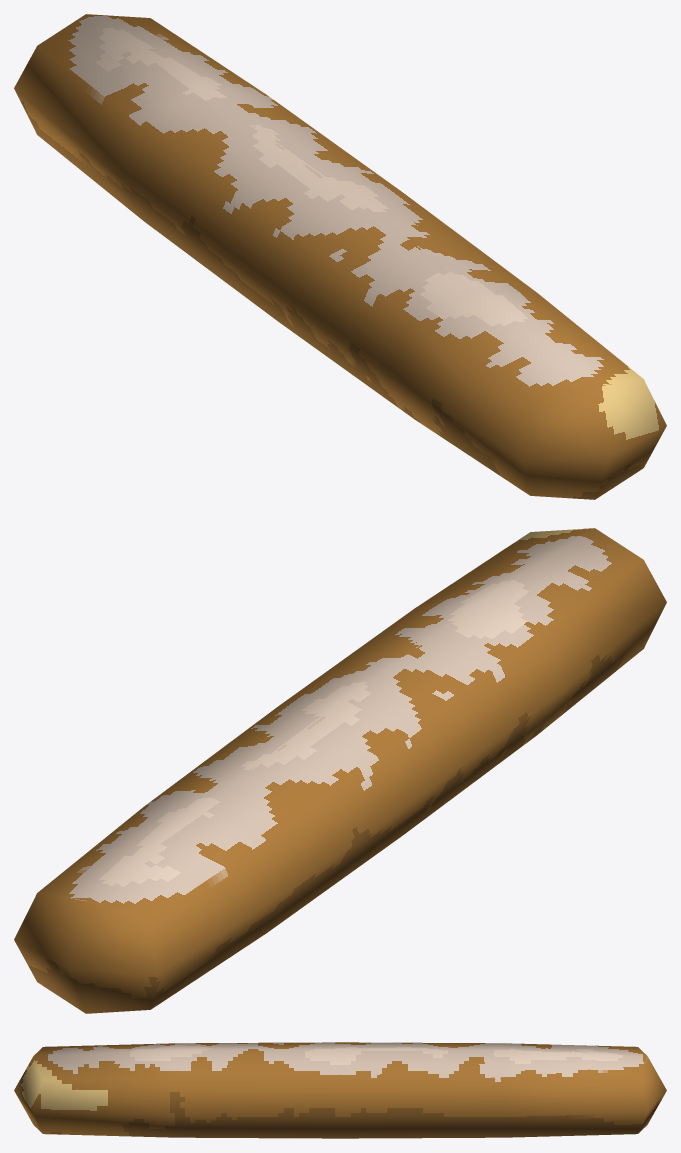
Rendered from farton.glb.
The picture shows the model from 3 angles, top to bottom: view 1: azimuth 30°, elevation 25°; view 2: azimuth 150°, elevation 25°; view 3: azimuth 270°, elevation 25°; orthographic projection. The views are drawn at different scales.
Visible parts, largest first — view 1: farton; view 2: farton; view 3: farton.
Boxes of the visible parts, <box> form: farton: <box>14,14,666,499</box>; farton: <box>14,528,666,1013</box>; farton: <box>14,1042,666,1138</box>.
Size of the model in its own units: 0.5202 by 0.3906 by 2.83.
Materials: 1 (1 with a texture image).
